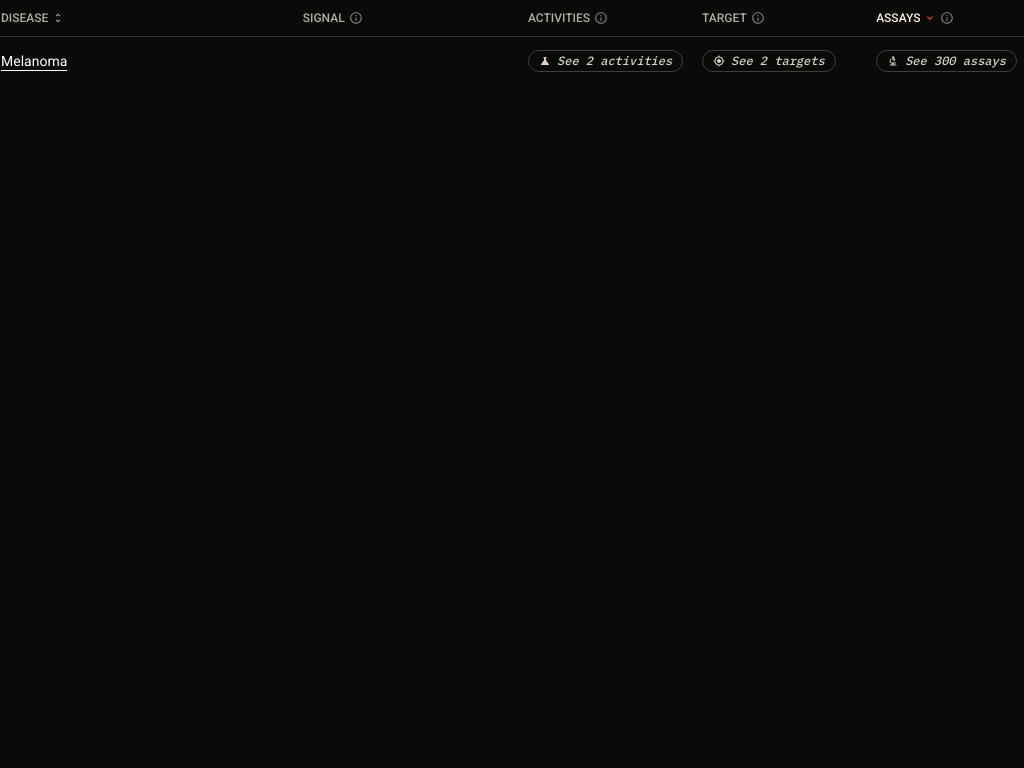
Test case: assays › admits in the modal when the stored list is capped
The image size is (1024, 768).
Expected: the link "melanoma" is shown, [1,50,67,70]
Click the button "See 300 assays": x=946, y=60 [876,50,1017,72]
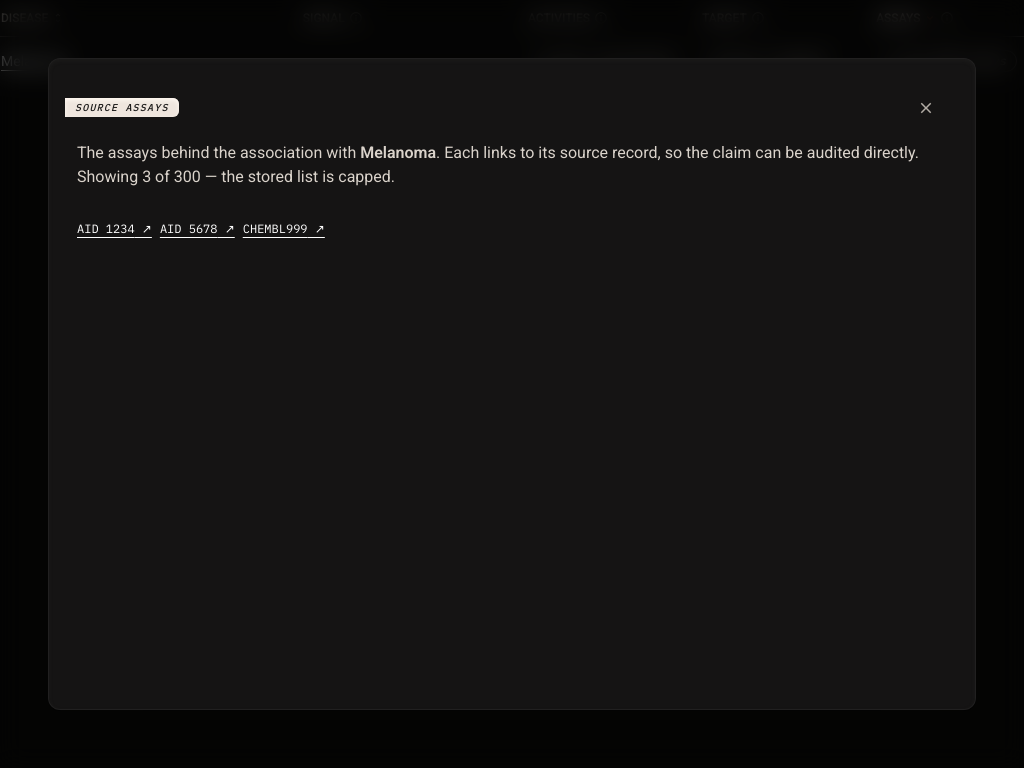
Now the heading "Source assays" is shown, box [65,98,179,117]
Now the text "Showing 3 of 300" is shown, box [77,141,947,189]
